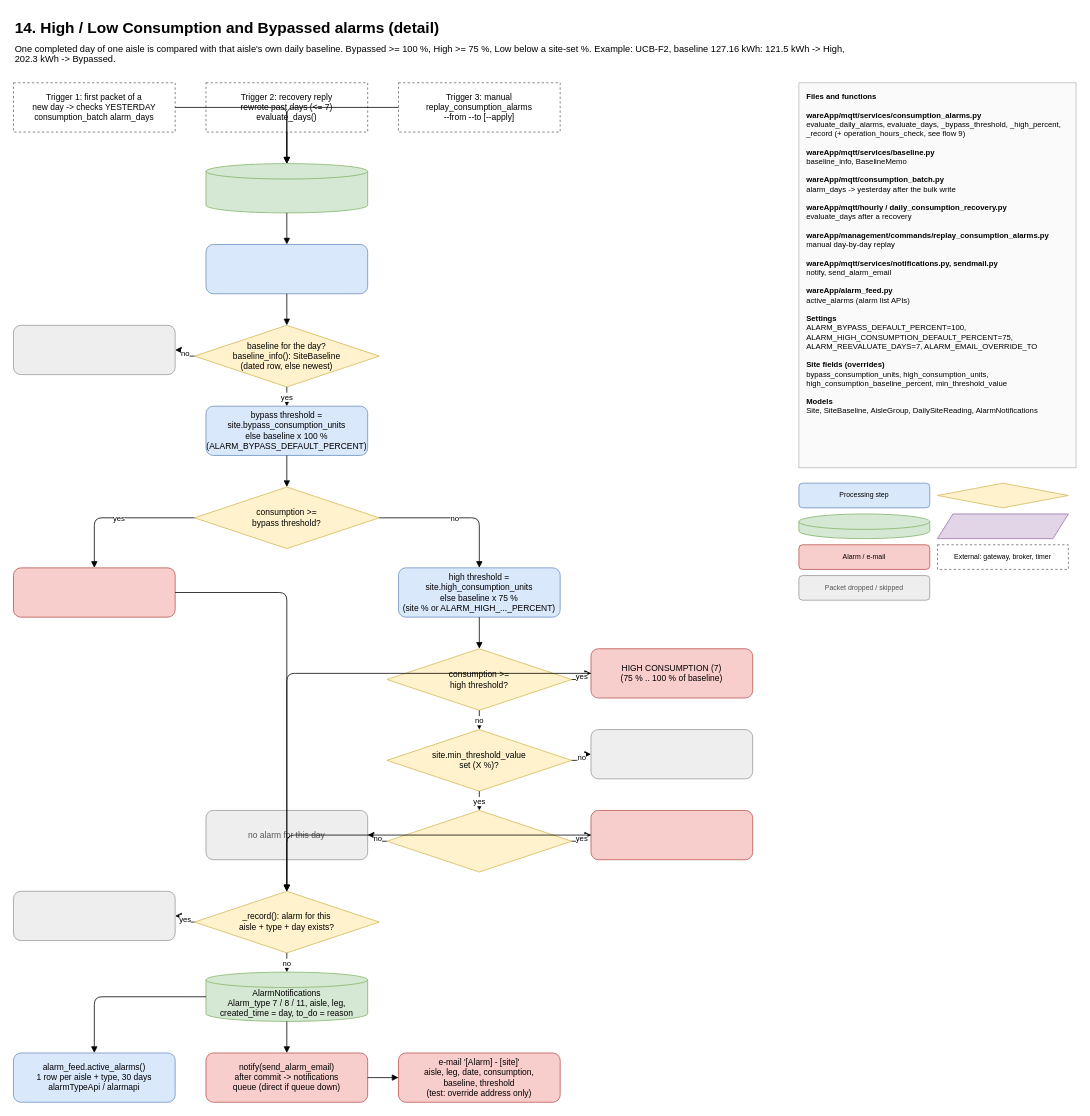
Some shapes in this 1090 by 1116 pixel diagram are drawn without their labels. The shapes that lost their labels are listed below. From the top down, each one's centre as x and y in pixels, then its label:
the point at 286,188: DailySiteReading of the aisle consumption = sum of the day's hourly rows
the point at 286,269: evaluate_daily_alarms (site, aisle, daily row)
the point at 94,350: no alarm (no baseline, or day before baseline start)
the point at 1002,495: Decision
the point at 864,526: Database table
the point at 1002,526: RabbitMQ queue / MQTT topic
the point at 94,592: BYPASSED (11) saved nothing that day -> stop (High not checked)
the point at 671,754: Low not checked (opt-in only)
the point at 479,841: consumption < baseline x (1 - X %)?
the point at 671,835: LOW CONSUMPTION (8)
the point at 94,916: skip: no new row, no e-mail
